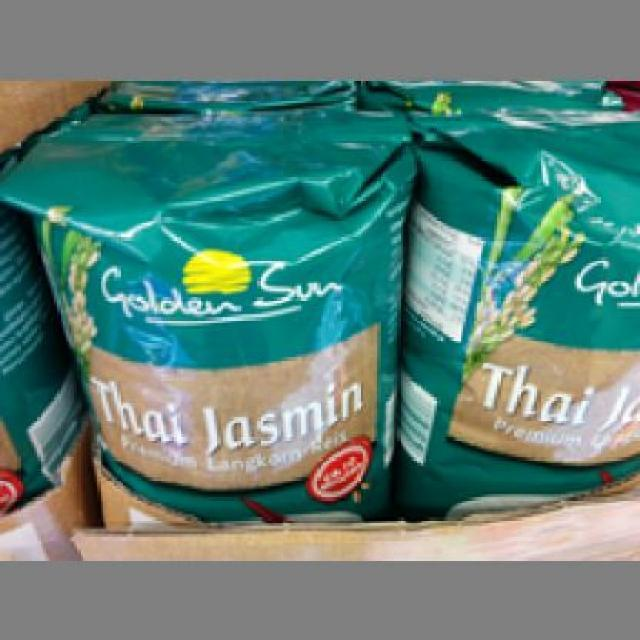Rice: (0, 109, 417, 518), (397, 111, 637, 508)
